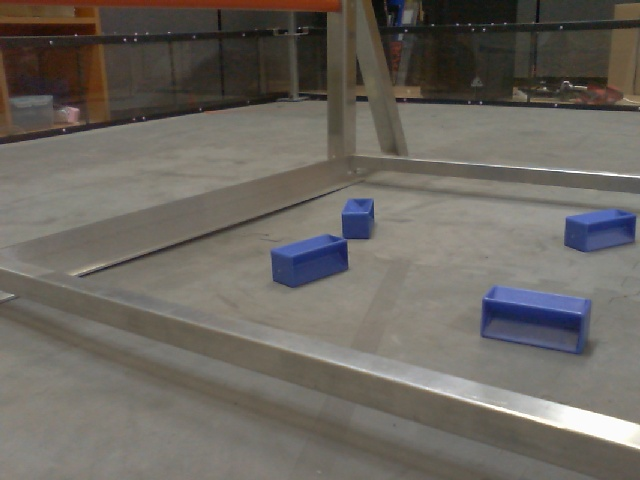BlueSample: (476, 281, 597, 354), (264, 233, 354, 290), (565, 204, 637, 259), (340, 195, 379, 238)
